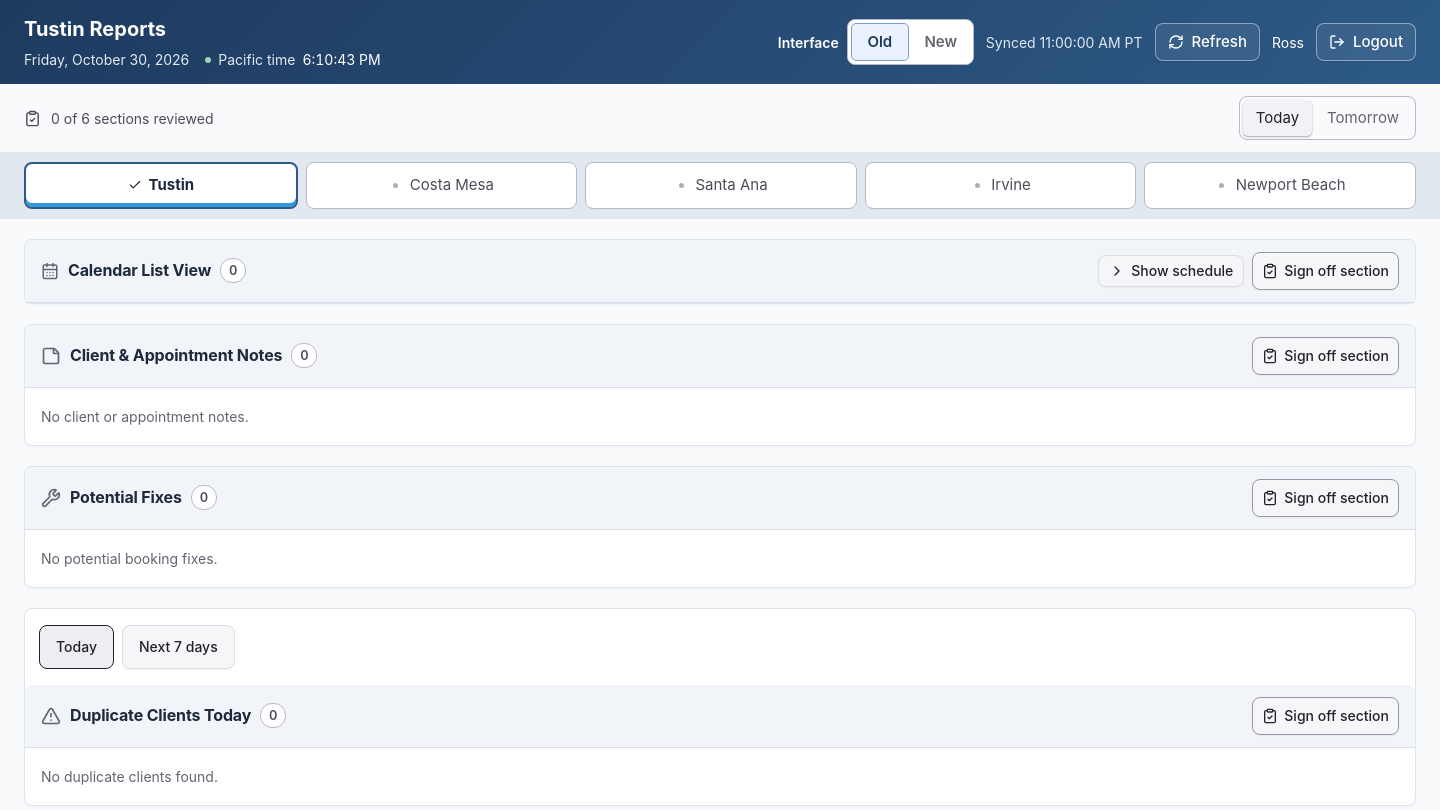
Test case: signs off one section without changing the others in old
The width and height of the screenshot is (1440, 810).
Click the button with aria-label "Sign off Calendar List View".
click(1326, 270)  # box [1252,252,1399,290]
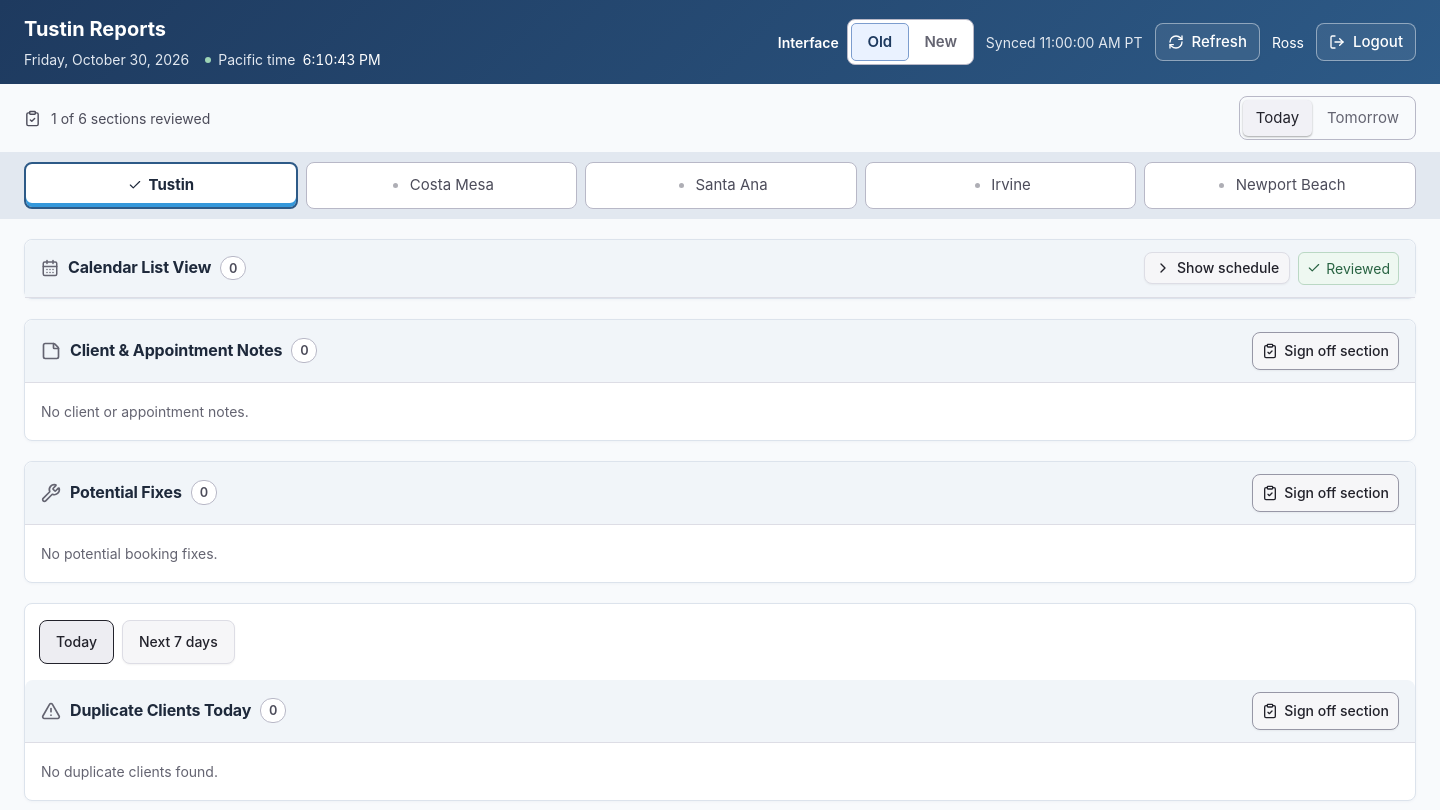
Check: the button with aria-label "Sign off Client & Appointment Notes" is shown, box [1252,332,1399,370]
Check: the text "Reviewed" is shown, box [1298,252,1399,284]
